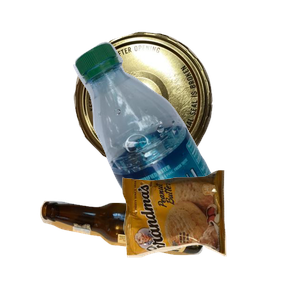glass: (37, 198, 236, 300)
metal: (71, 29, 276, 193)
plastic: (71, 39, 300, 219)
trash: (120, 168, 300, 300)
